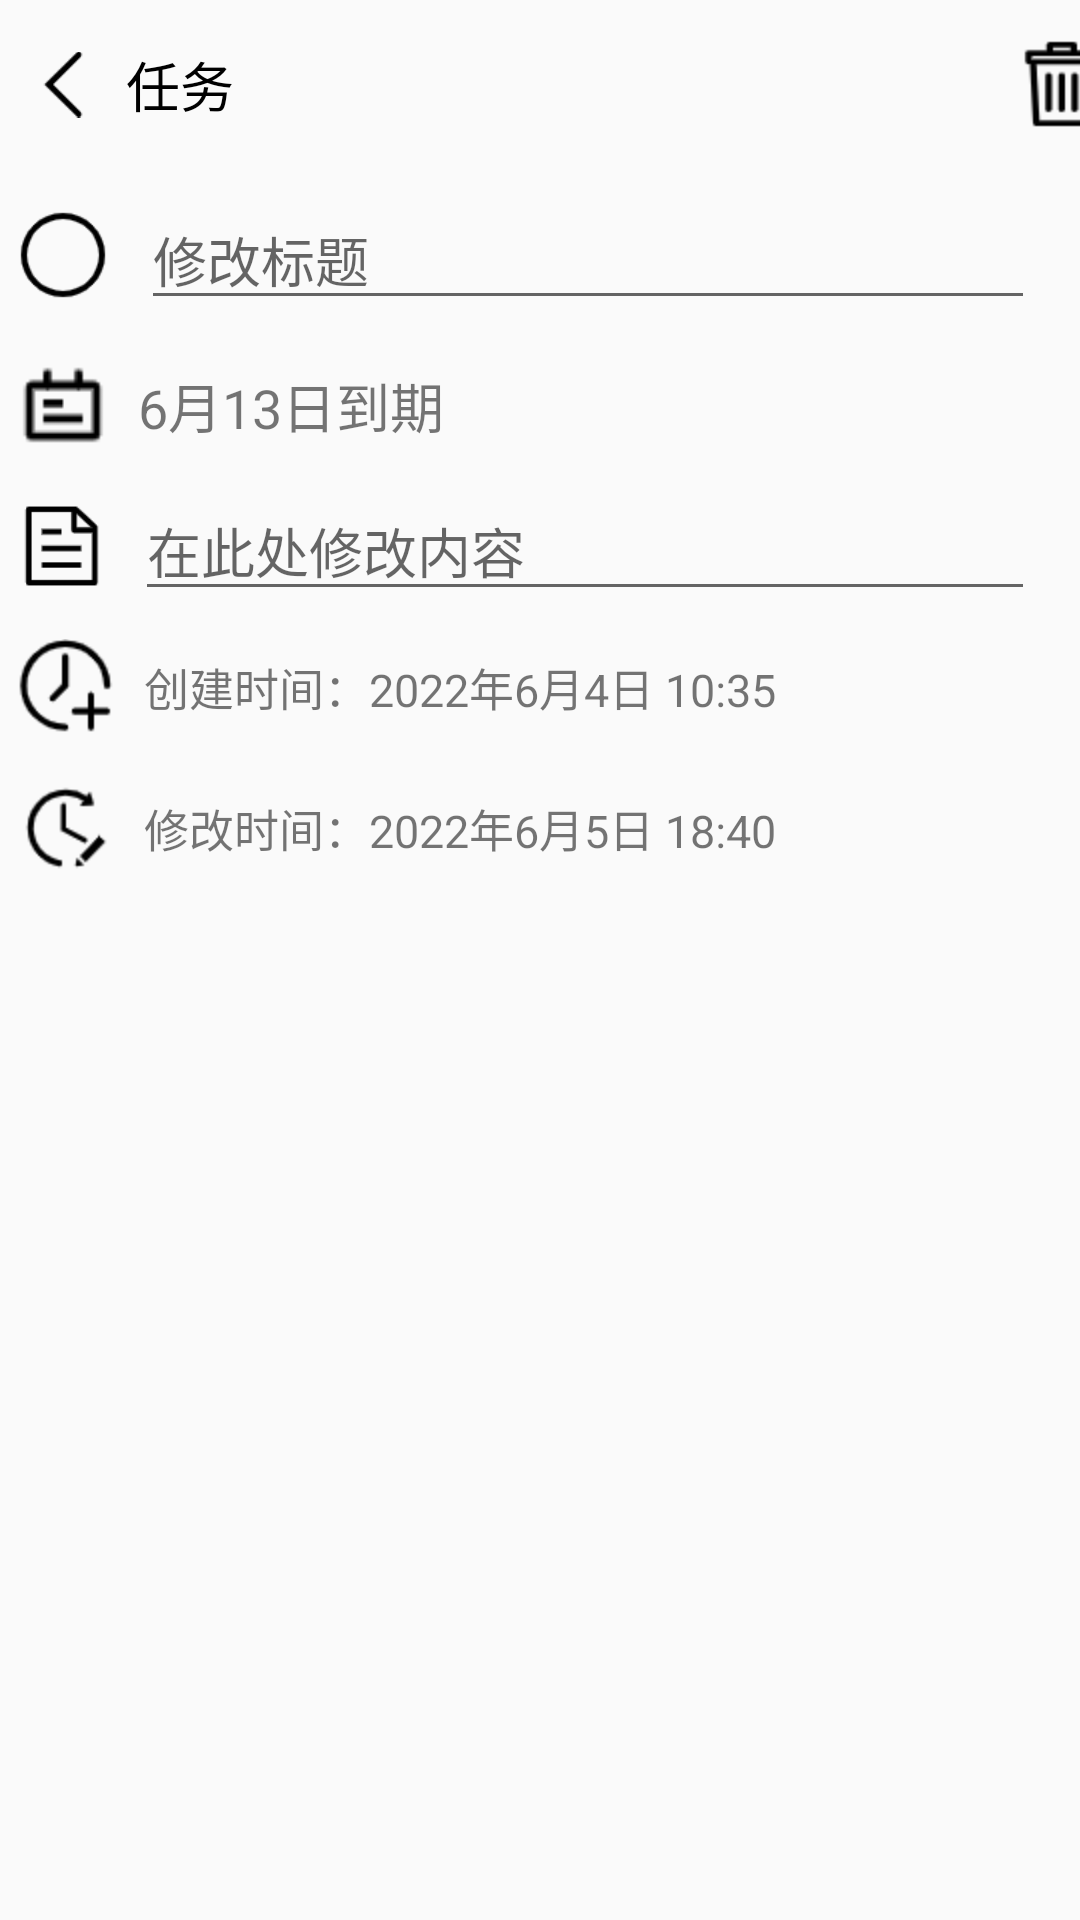

Named icons in this screenshot (1080*1920) and their centers, (x,y):
change time: (66,828)
circle not choose: (63,255)
content: (62,546)
create time: (65,685)
date: (63,405)
left errow: (63,85)
